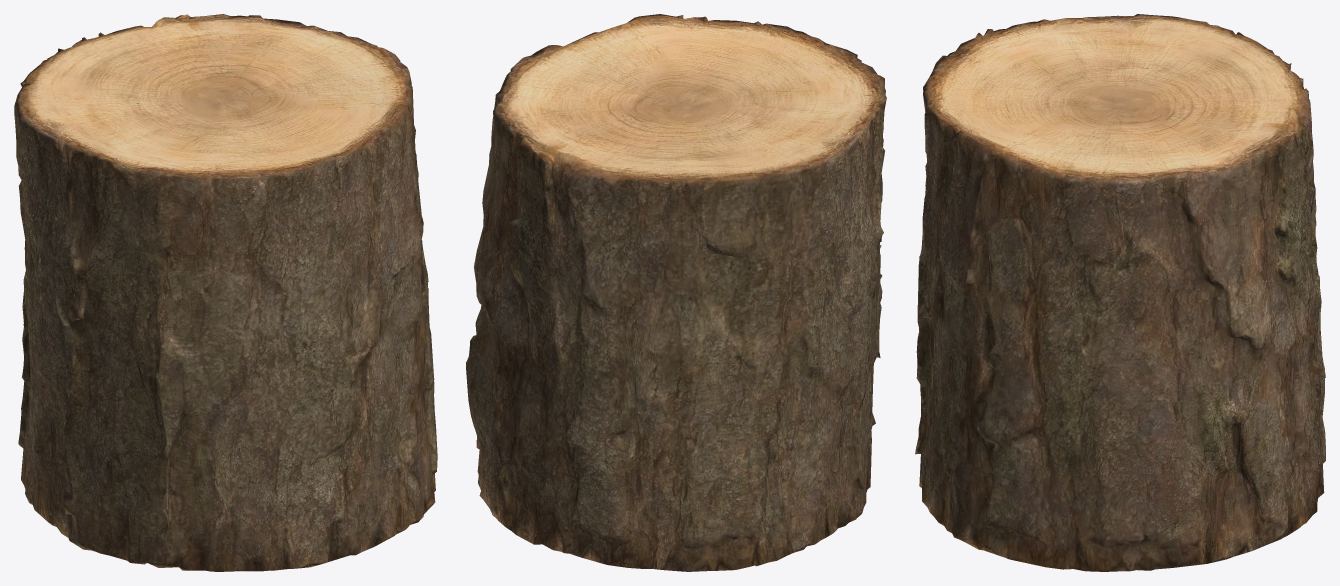
The model's file is log.glb.
3 views of the same model, side by side, from view 1: azimuth 30°, elevation 25°; view 2: azimuth 150°, elevation 25°; view 3: azimuth 270°, elevation 25° (orthographic). The views are drawn at different scales.
Parts seen in each view (by area): view 1: tripo_node_ff83fec6-9ec8-443d-aa54-82a8c1e8706d; view 2: tripo_node_ff83fec6-9ec8-443d-aa54-82a8c1e8706d; view 3: tripo_node_ff83fec6-9ec8-443d-aa54-82a8c1e8706d.
Boxes of the visible parts, left/top/right/bottom form: tripo_node_ff83fec6-9ec8-443d-aa54-82a8c1e8706d: left=14, top=14, right=437, bottom=571; tripo_node_ff83fec6-9ec8-443d-aa54-82a8c1e8706d: left=466, top=14, right=886, bottom=571; tripo_node_ff83fec6-9ec8-443d-aa54-82a8c1e8706d: left=915, top=14, right=1325, bottom=571.
Bounding box in the file's own units: 0.9316 × 0.998 × 0.9277.
1 material, 1 textured.
